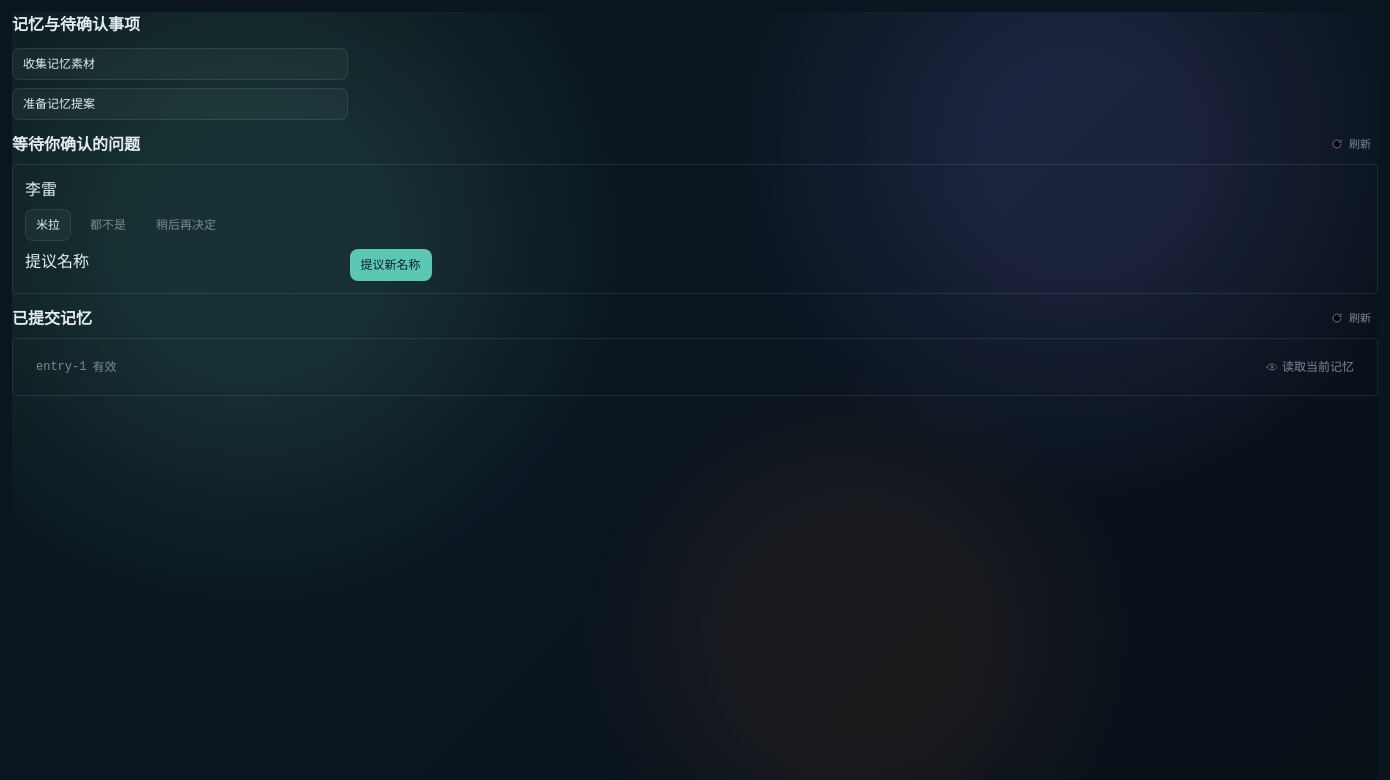
Test: MemoryQueryPanel › collects current-run sources without exposing their text or sending a model request
Click the button "收集记忆素材": coordinates (59, 64) [12, 48, 348, 80]
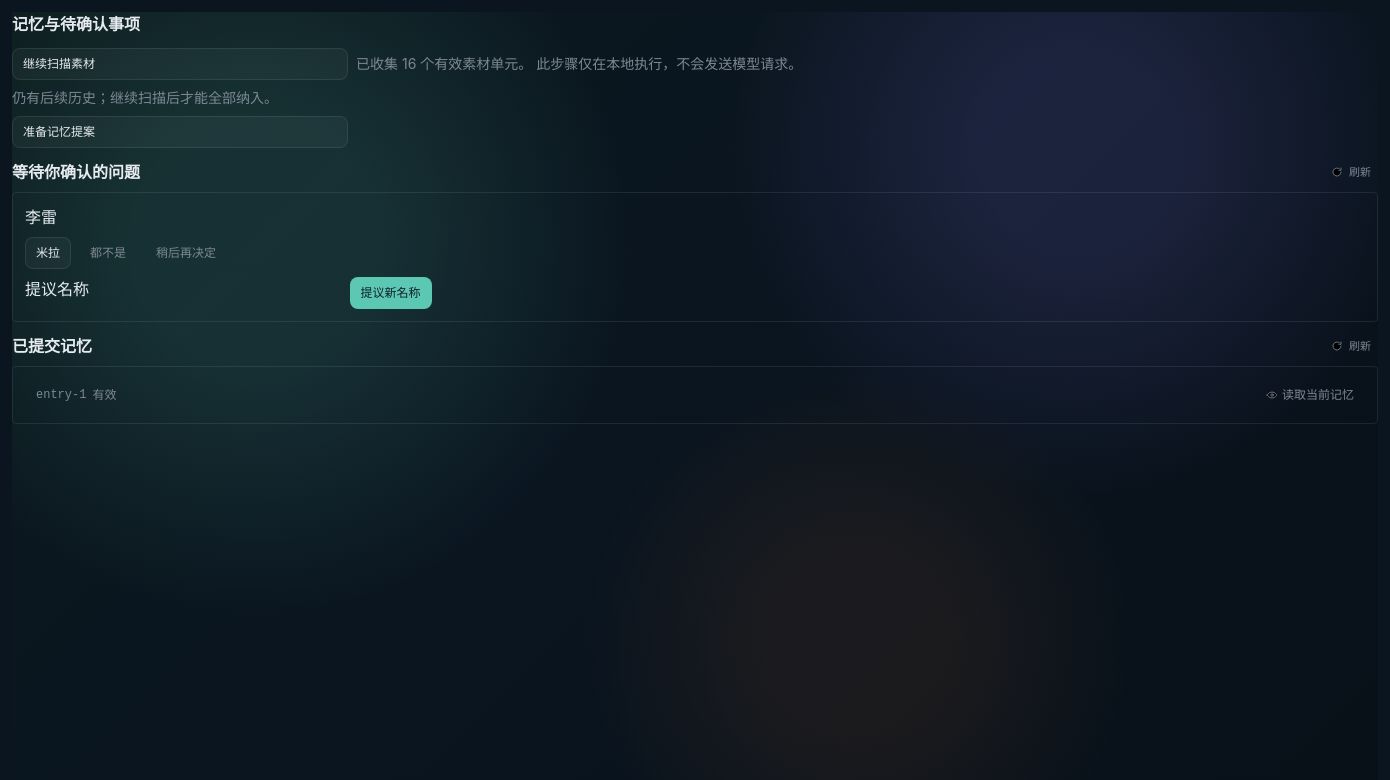
Expected: the text "已收集 16 个有效素材单元" is shown, [356, 55, 802, 72]
Expected: the text "此步骤仅在本地执行，不会发送模型请求" is shown, [356, 55, 802, 72]
Click the button "继续扫描素材": coordinates (59, 64) [12, 48, 348, 80]
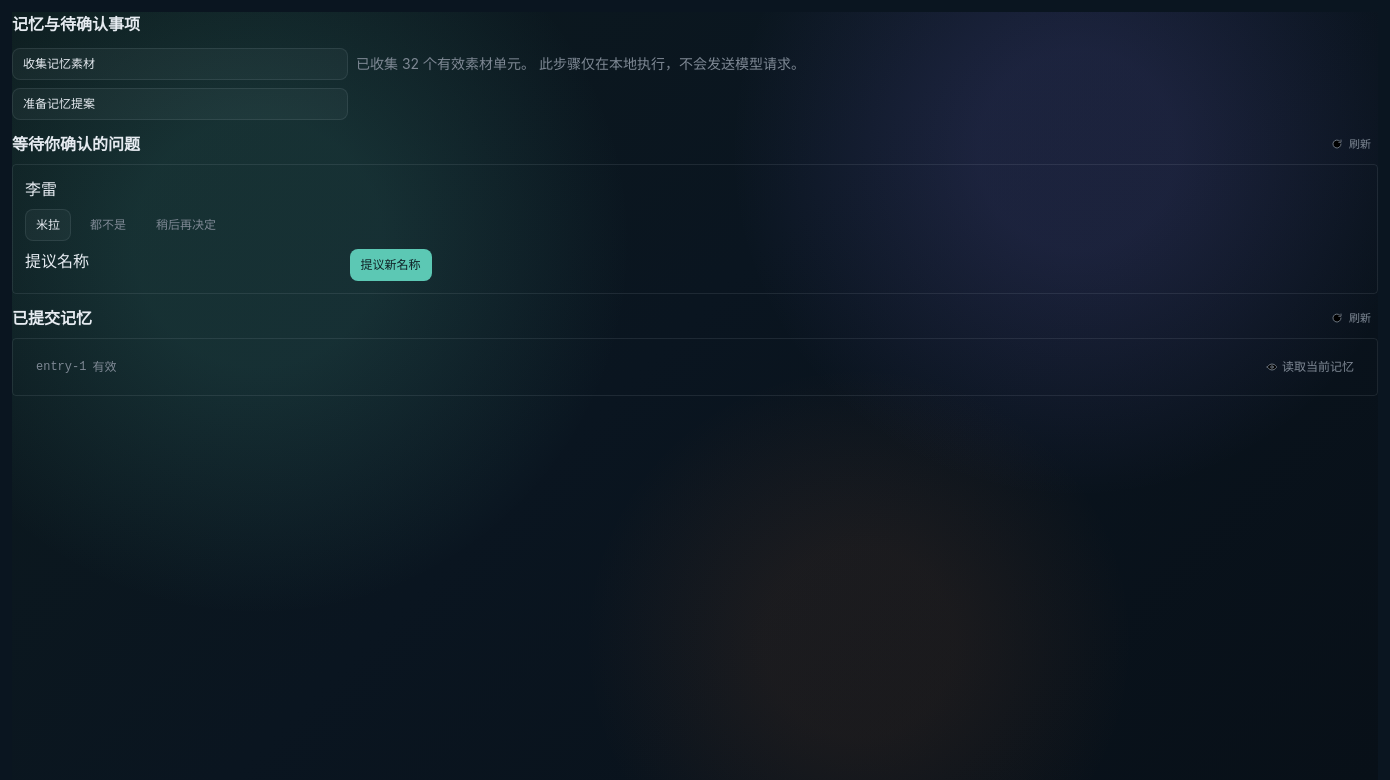
Expected: the text "已收集 32 个有效素材单元" is shown, [356, 55, 805, 72]
